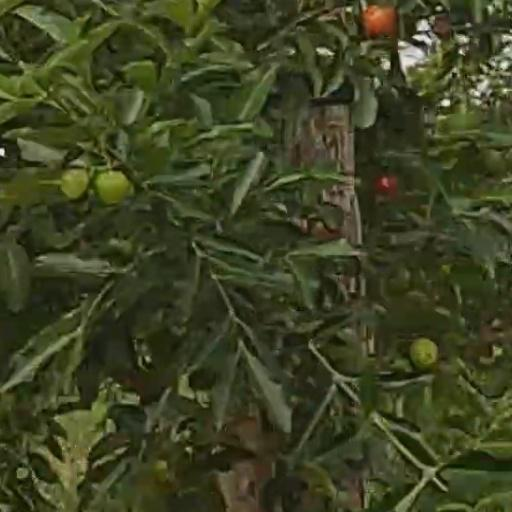acerola: (363, 5, 394, 34), (99, 171, 127, 201), (412, 336, 437, 369), (63, 169, 87, 197), (379, 175, 400, 195)
